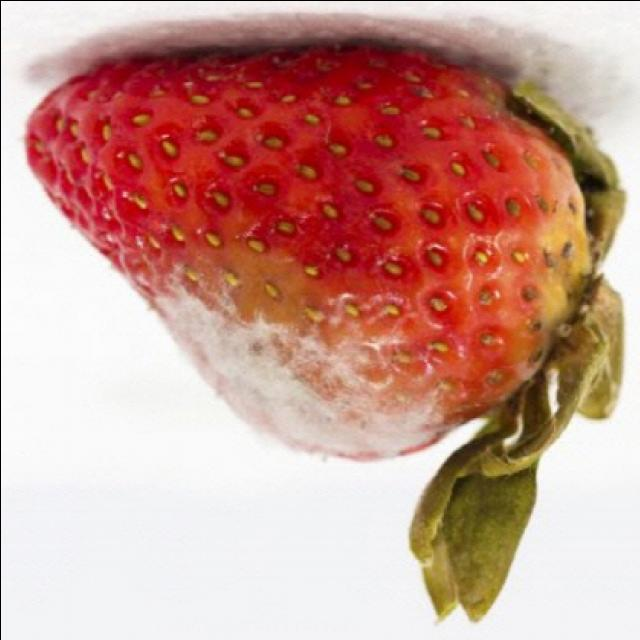Powdery Mildew Fruit: (109, 230, 478, 463)
